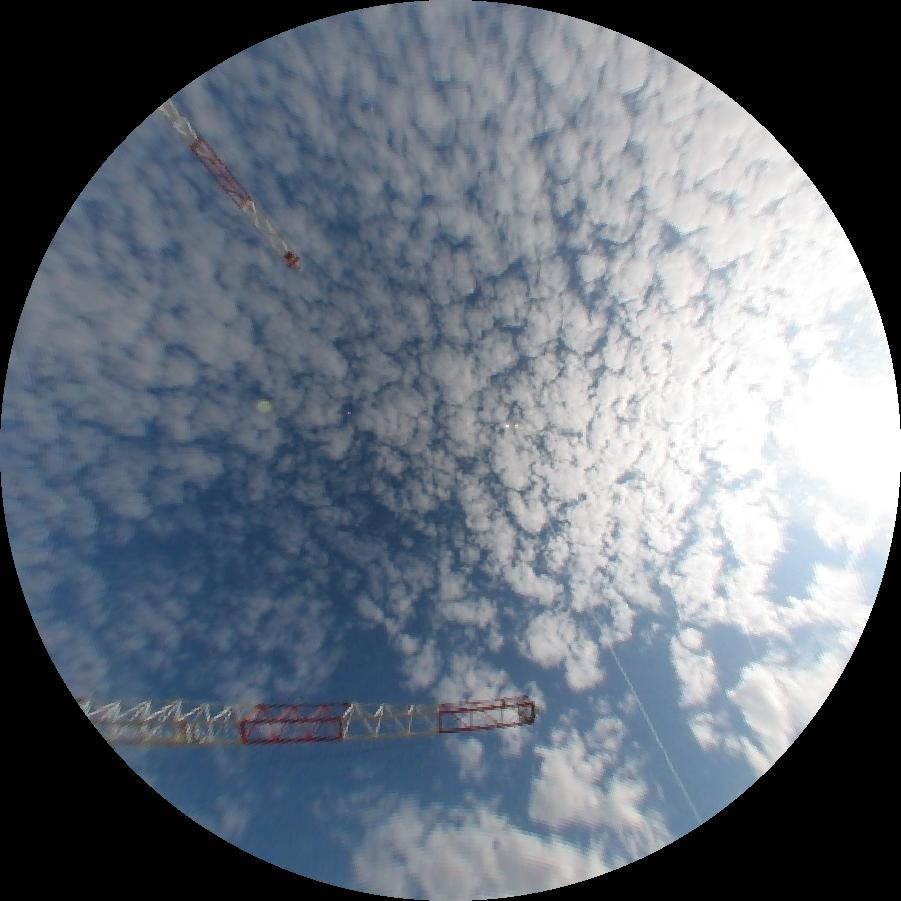contrail young: (586, 608, 703, 825)
